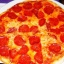pepperoni: (12, 36, 34, 63), (27, 35, 46, 62), (24, 2, 45, 26), (8, 13, 30, 32), (42, 14, 60, 35)
pizza: (1, 1, 64, 64)
